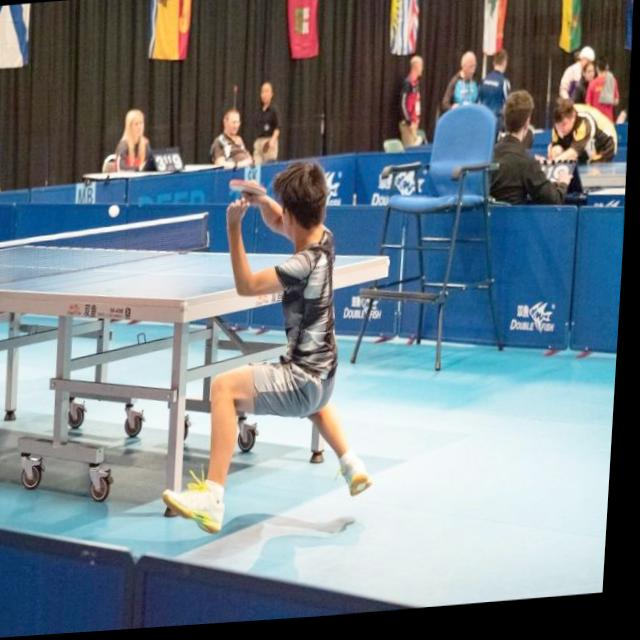TT Net: (0, 210, 209, 285), (224, 176, 269, 198)
TT Table: (0, 244, 390, 301)
